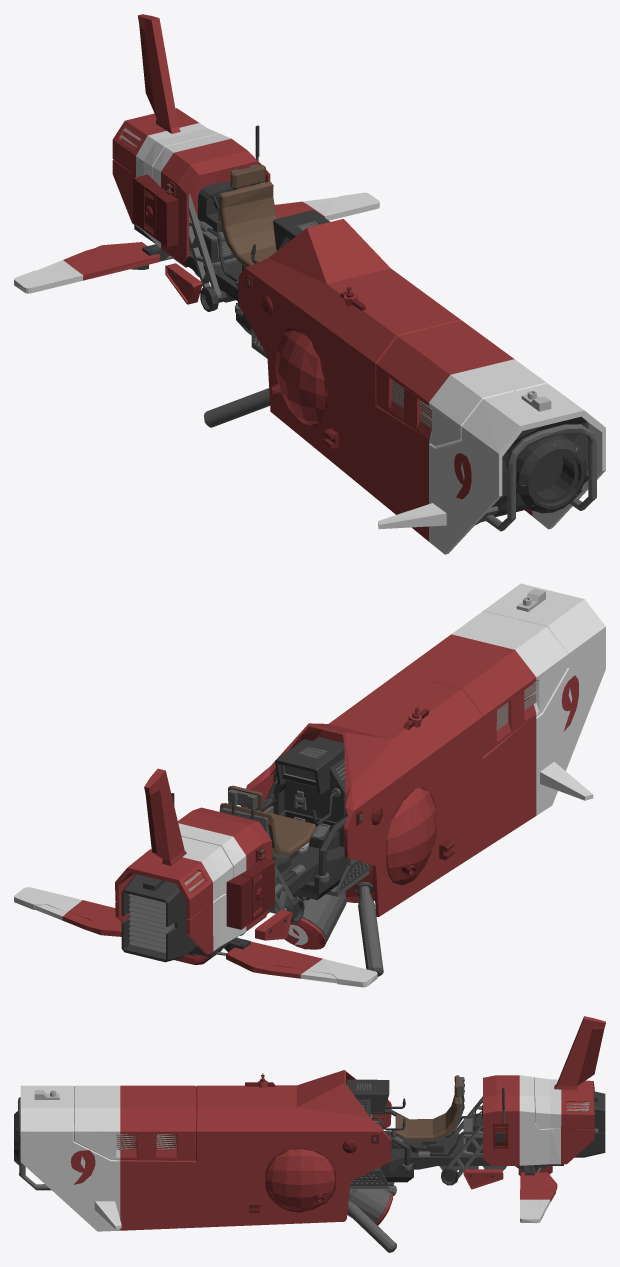
The model's file is scout.glb.
3 renders of one model, top to bottom at view 1: azimuth 30°, elevation 25°; view 2: azimuth 150°, elevation 25°; view 3: azimuth 270°, elevation 25°, orthographic. The views are drawn at different scales.
Parts seen in each view (by area): view 1: pCylinder1_phong1_0, pCube94_phong3_0, pCube4_bl1_0, pCube6_phong10_0, polySurface2_phong4_0, pCube17_bl_0, polySurface47_phong9_0, pCylinder1_nemet_0; view 2: pCylinder1_phong1_0, pCube94_phong3_0, pCube4_bl1_0, polySurface2_phong4_0, pCube17_bl_0, pCylinder1_nemet_0, pCube6_phong10_0, pCube131_rhav4_0; view 3: pCylinder1_phong1_0, pCube94_phong3_0, pCube4_bl1_0, polySurface2_phong4_0, pCylinder1_nemet_0, pCube17_bl_0, pCube6_phong10_0, pCube131_rhav4_0, polySurface47_phong9_0.
Part boxes in pixels (x1,y1,x2,y2): pCylinder1_phong1_0: [63, 14, 532, 541]; pCube94_phong3_0: [14, 123, 605, 554]; pCube4_bl1_0: [130, 125, 588, 525]; pCube6_phong10_0: [218, 165, 277, 267]; polySurface2_phong4_0: [133, 25, 365, 448]; pCube17_bl_0: [161, 155, 596, 531]; polySurface47_phong9_0: [189, 182, 264, 299]; pCylinder1_nemet_0: [204, 164, 269, 427]; pCylinder1_phong1_0: [62, 634, 578, 978]; pCube94_phong3_0: [14, 583, 605, 987]; pCube4_bl1_0: [121, 737, 347, 962]; polySurface2_phong4_0: [145, 708, 454, 964]; pCube17_bl_0: [129, 746, 370, 955]; pCylinder1_nemet_0: [221, 789, 383, 976]; pCube6_phong10_0: [219, 785, 315, 857]; pCube131_rhav4_0: [184, 681, 536, 891]; pCylinder1_phong1_0: [70, 1016, 605, 1230]; pCube94_phong3_0: [20, 1075, 561, 1231]; pCube4_bl1_0: [14, 1079, 605, 1185]; polySurface2_phong4_0: [245, 1029, 604, 1212]; pCylinder1_nemet_0: [347, 1077, 464, 1252]; pCube17_bl_0: [15, 1083, 598, 1190]; pCube6_phong10_0: [395, 1075, 460, 1140]; pCube131_rhav4_0: [116, 1101, 589, 1149]; polySurface47_phong9_0: [445, 1096, 482, 1177].
Bounding box in the file's own units: 0.4941 × 0.3875 × 1.
